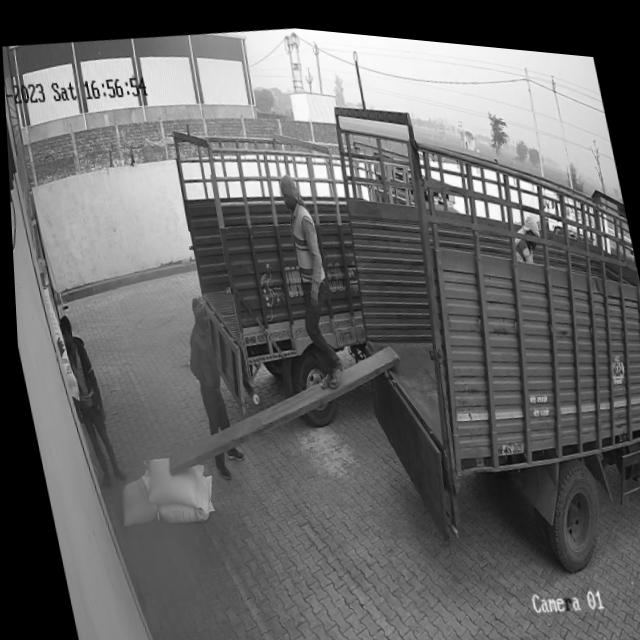sack: (133, 445, 207, 514), (144, 467, 215, 526), (109, 466, 156, 527)
